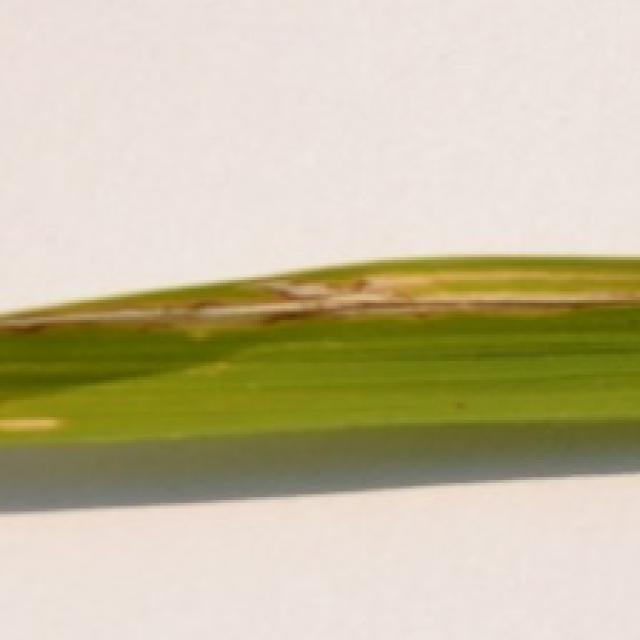Rice___Bacterial_Leaf_Blight: (0, 252, 637, 447)
